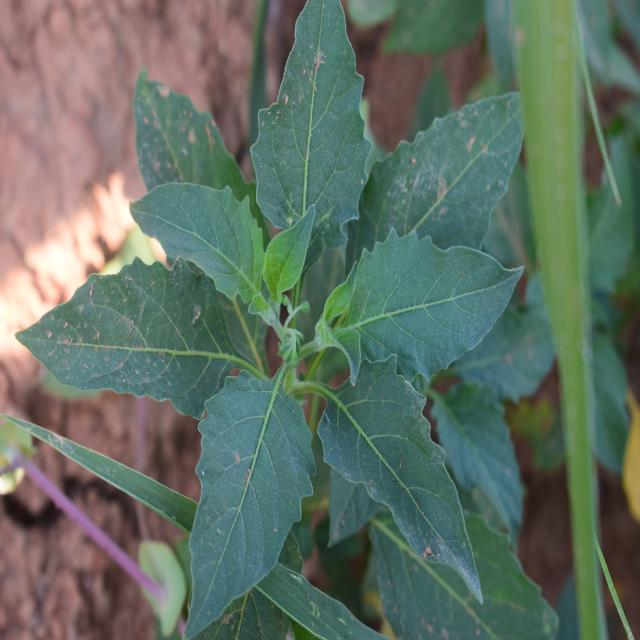Black_nightshade: (41, 30, 491, 567)
